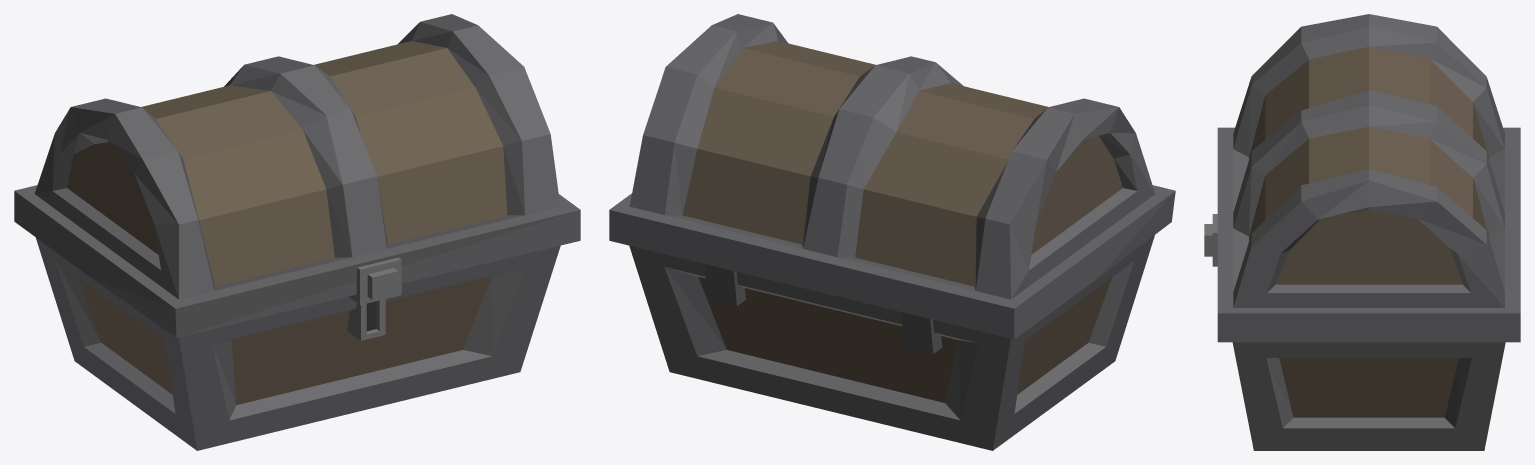
Rendered from SM_Prop_Chest_03.glb.
The picture shows the model from 3 angles, left to right: view 1: azimuth 30°, elevation 25°; view 2: azimuth 150°, elevation 25°; view 3: azimuth 270°, elevation 25°; orthographic projection. The views are drawn at different scales.
Visible parts, largest first — view 1: SM_Prop_Chest_03_part02, SM_Prop_Chest_03_part00; view 2: SM_Prop_Chest_03_part02, SM_Prop_Chest_03_part00; view 3: SM_Prop_Chest_03_part02, SM_Prop_Chest_03_part00.
Part boxes in pixels (<box>): SM_Prop_Chest_03_part02: <box>14,14,580,337</box>; SM_Prop_Chest_03_part00: <box>35,237,560,450</box>; SM_Prop_Chest_03_part02: <box>609,14,1175,339</box>; SM_Prop_Chest_03_part00: <box>629,235,1154,450</box>; SM_Prop_Chest_03_part02: <box>1204,14,1520,342</box>; SM_Prop_Chest_03_part00: <box>1232,342,1505,450</box>.
Size of the model in its own units: 0.6705 by 0.47 by 0.4826.
Materials: 1 (1 with a texture image).
